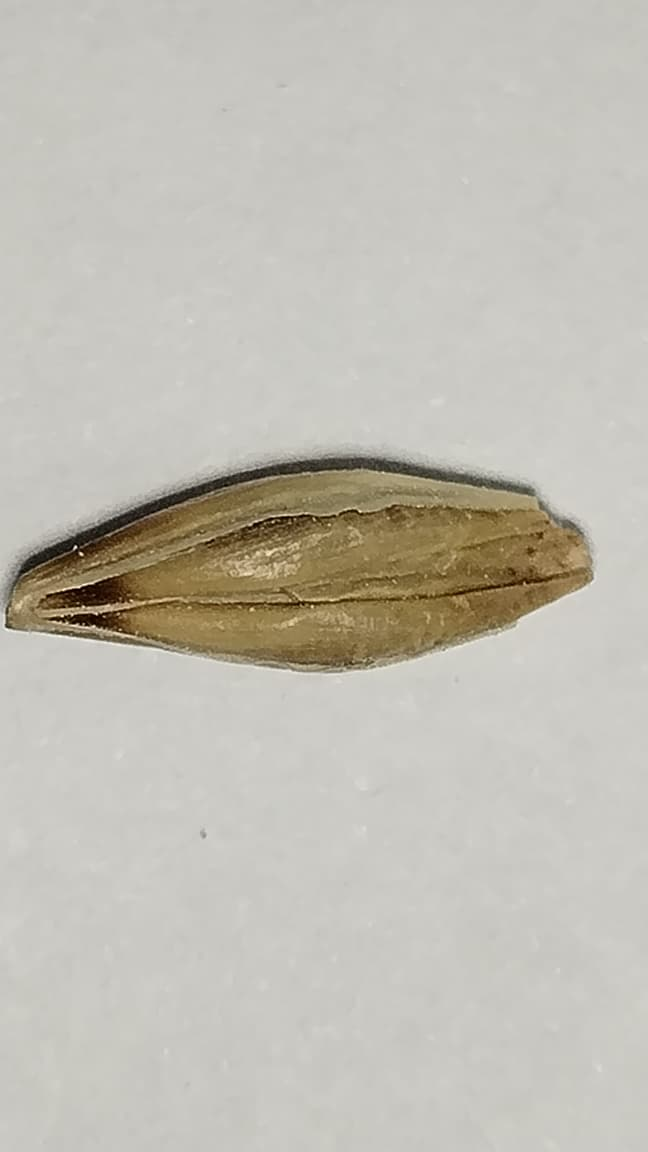healthy-70-60: (12, 468, 591, 669)
staindamage: (7, 548, 166, 646), (214, 495, 476, 543)
